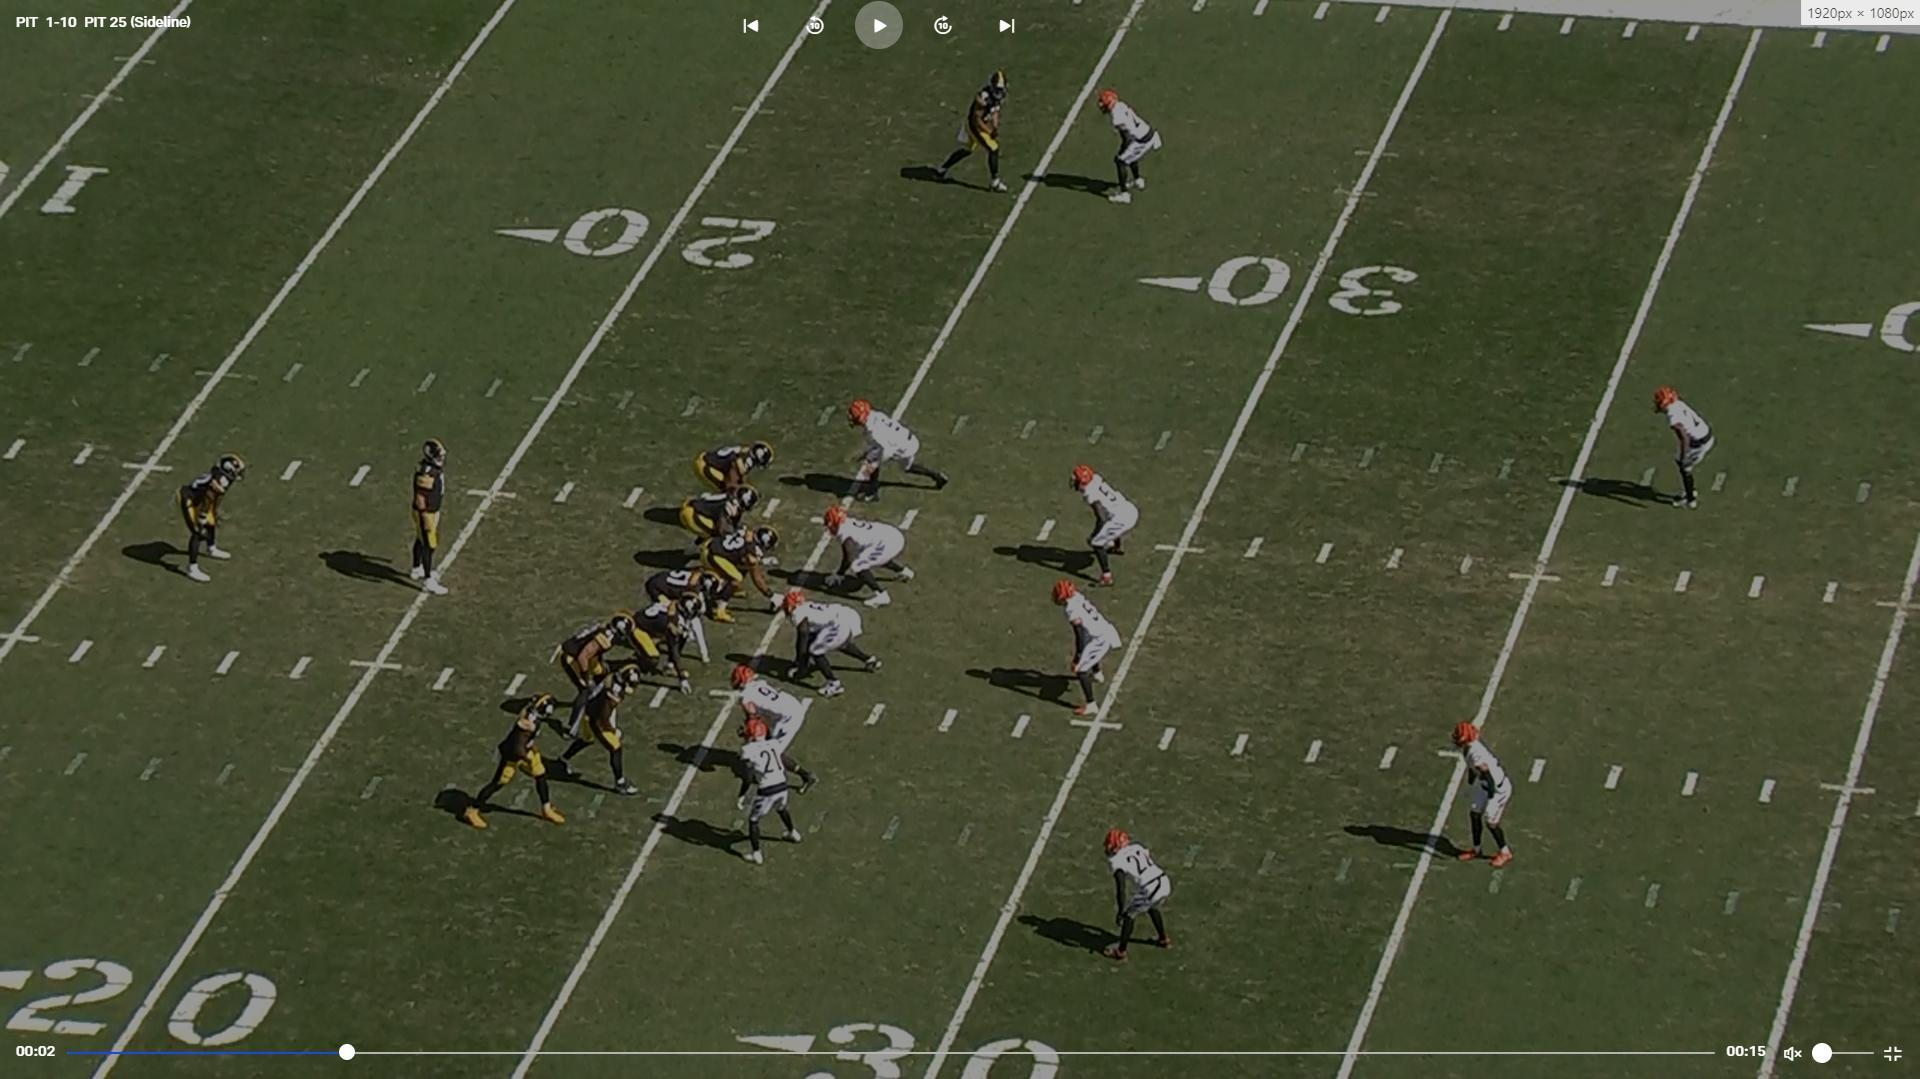player: (460, 691, 573, 837), (720, 663, 813, 797), (843, 399, 952, 510), (778, 583, 885, 696), (930, 66, 1018, 196), (733, 723, 808, 872), (548, 610, 633, 737), (552, 665, 635, 795), (1104, 827, 1181, 967), (1451, 722, 1519, 879), (824, 504, 919, 609), (177, 453, 248, 589), (1053, 577, 1120, 716), (406, 435, 458, 604), (620, 590, 702, 694), (701, 525, 790, 620), (1069, 461, 1134, 586), (1655, 386, 1716, 516), (1098, 86, 1163, 207), (641, 566, 720, 645), (698, 438, 777, 504), (685, 488, 762, 555)
